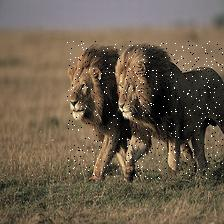Lion: (111, 41, 224, 179), (68, 41, 117, 176)
